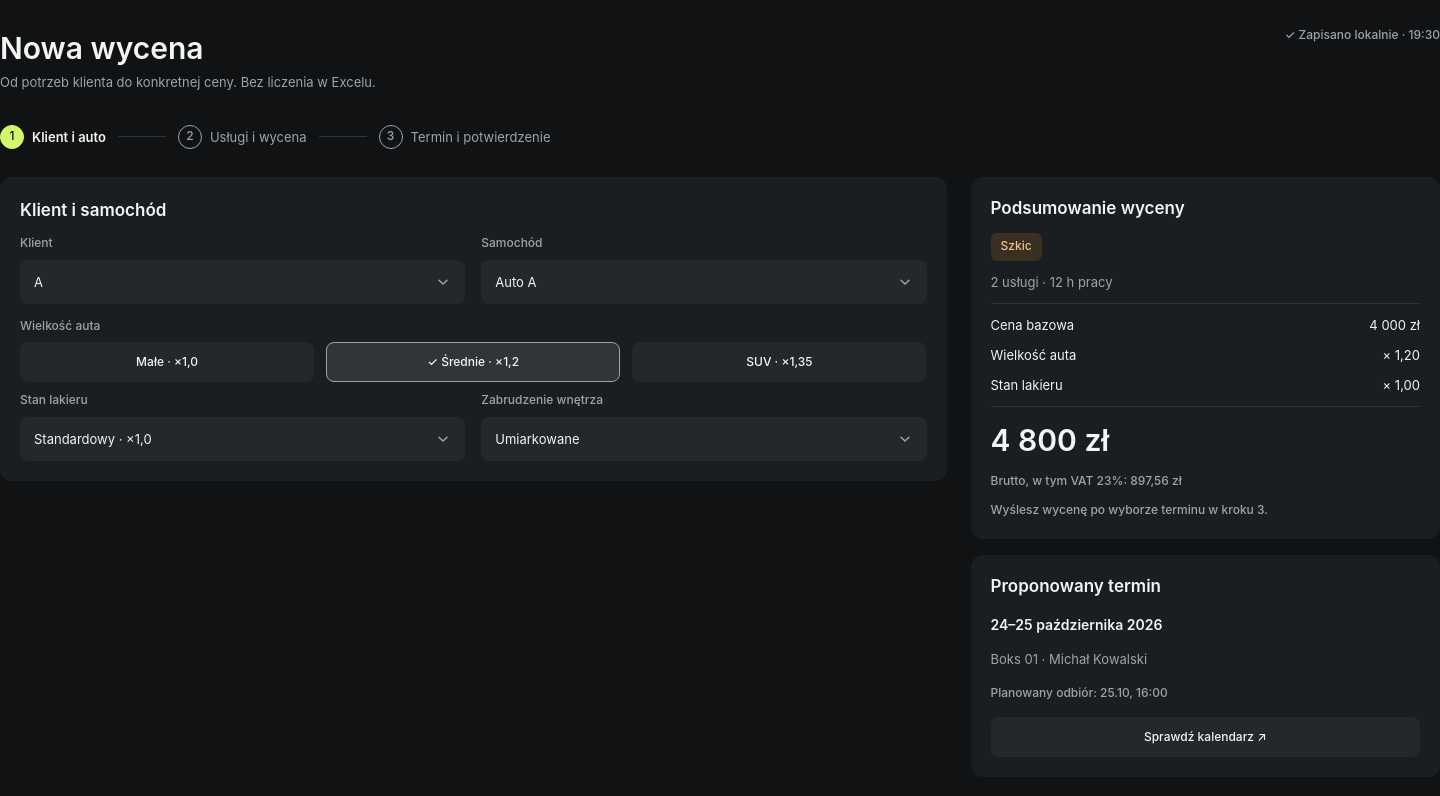
Test case: disables SMS for a client without a phone and clears consent when changing client
This screenshot has width=1440, height=796.
Click the button "3 Termin i potwierdzenie" at (465, 137), box [379,121,550,153]
(page scrolled)
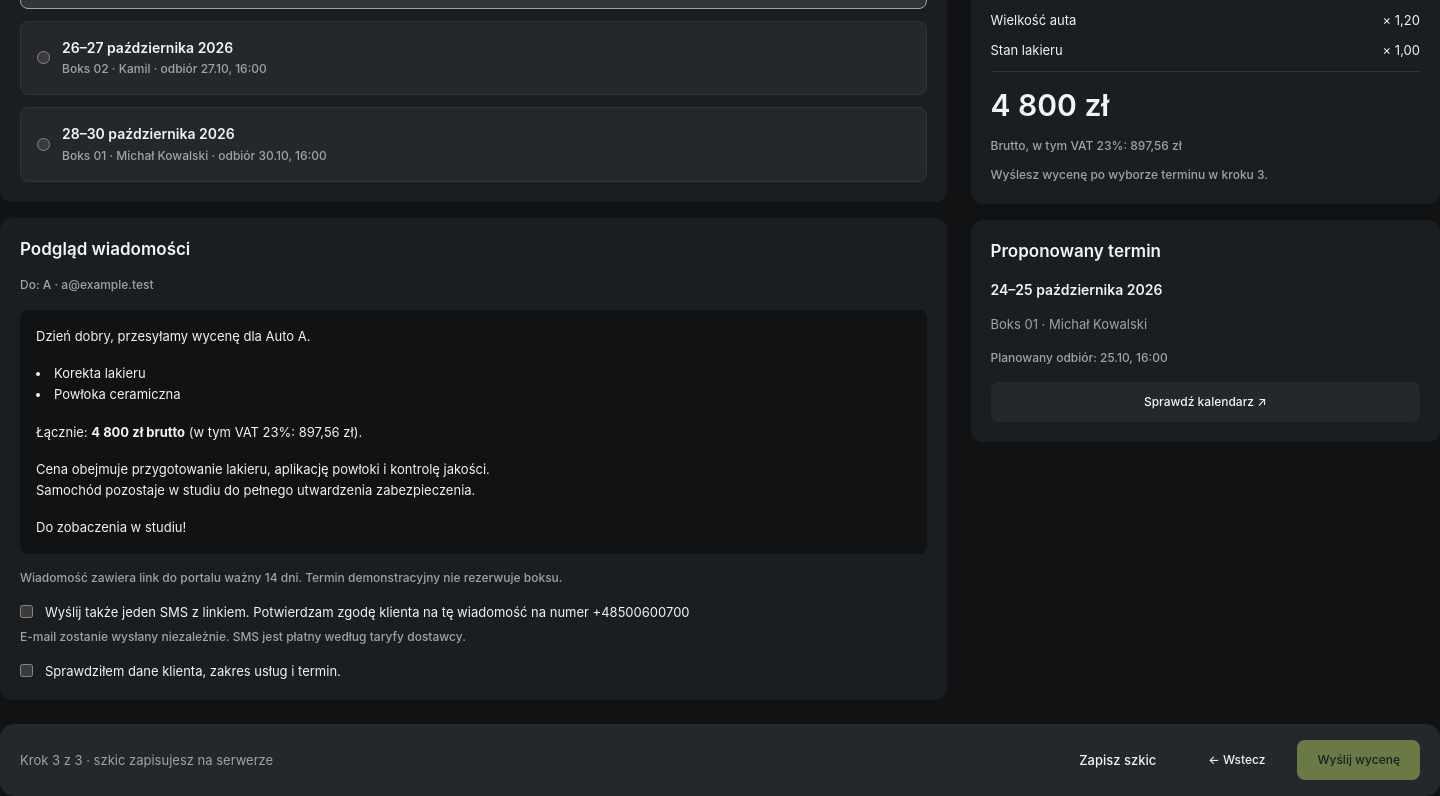
Click the checkbox labelled "Wyślij także jeden SMS" at (26, 611), box [20,605,33,618]
(page scrolled)
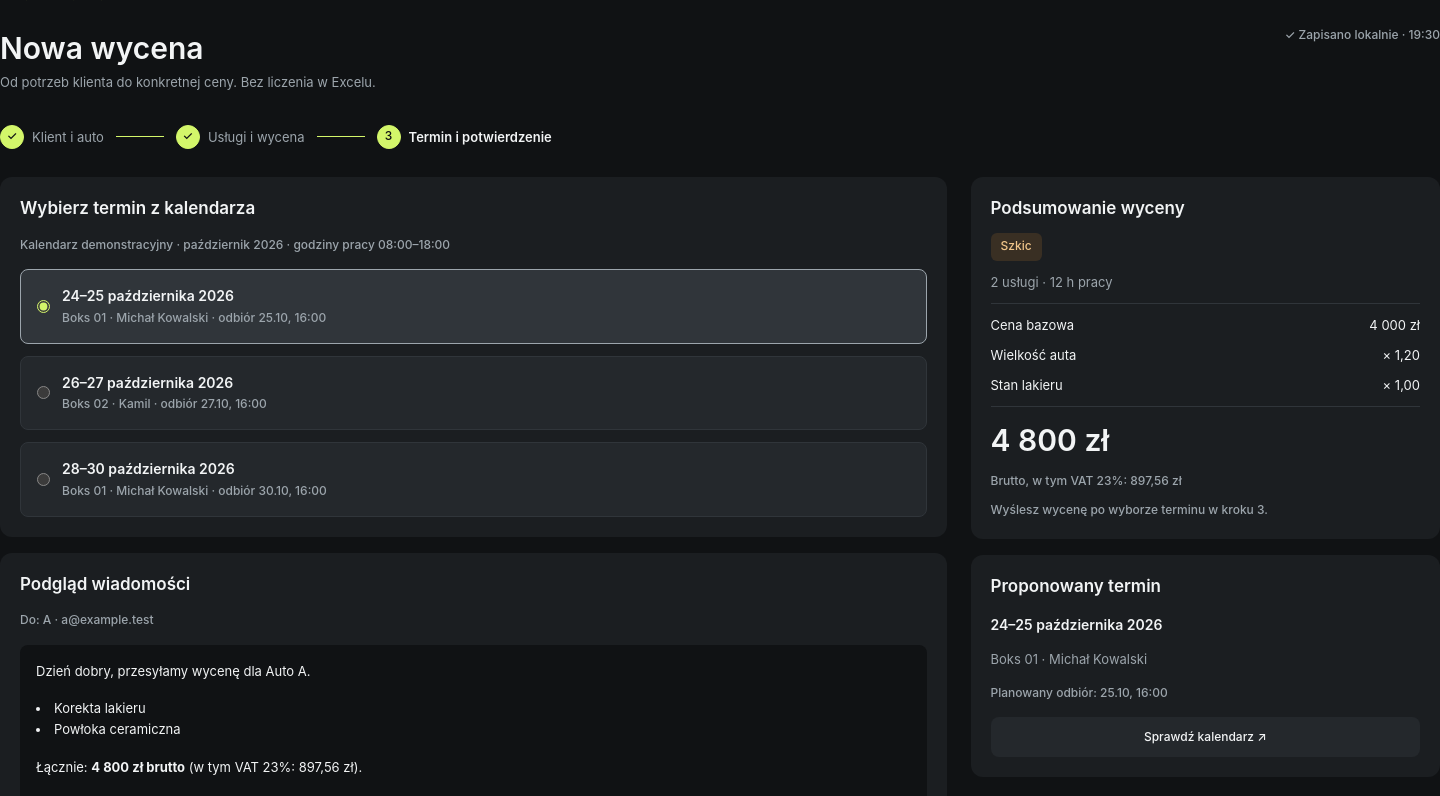
Click the button "✓ Klient i auto" at (52, 137), box [0,121,104,153]
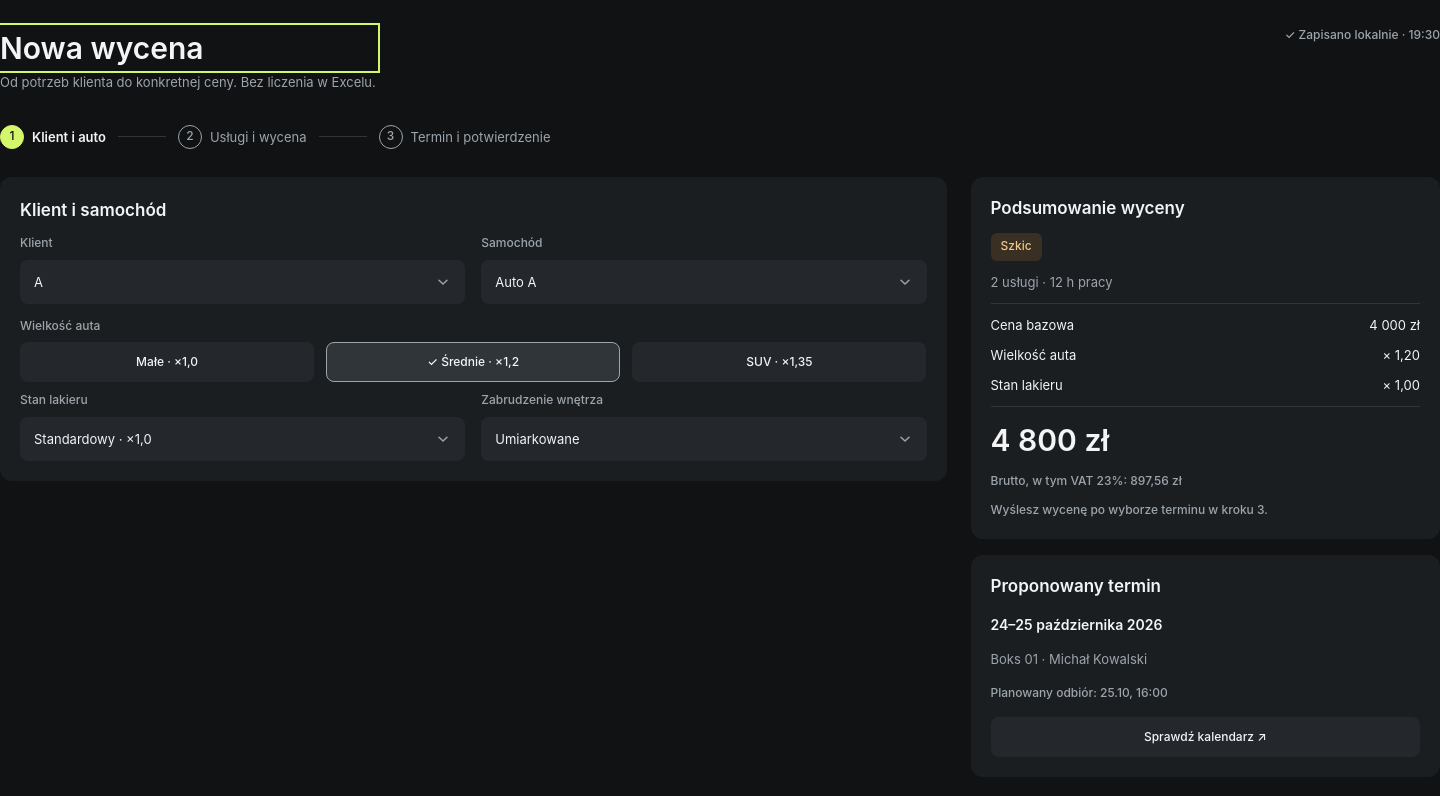
Click the dropdown named "Klient" at (38, 282), box [20,260,465,304]
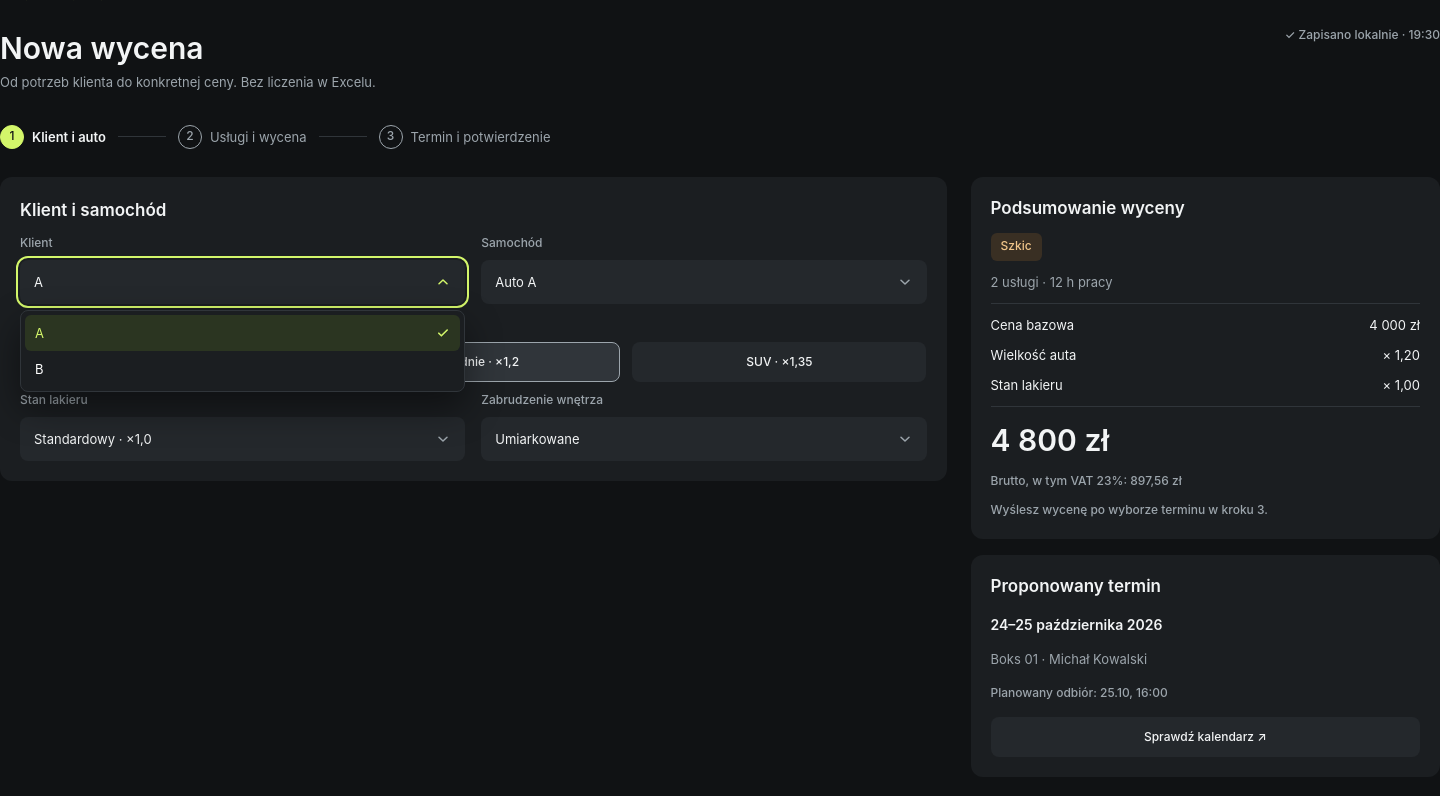
Click the option "B" at (39, 368), box [35,360,44,376]
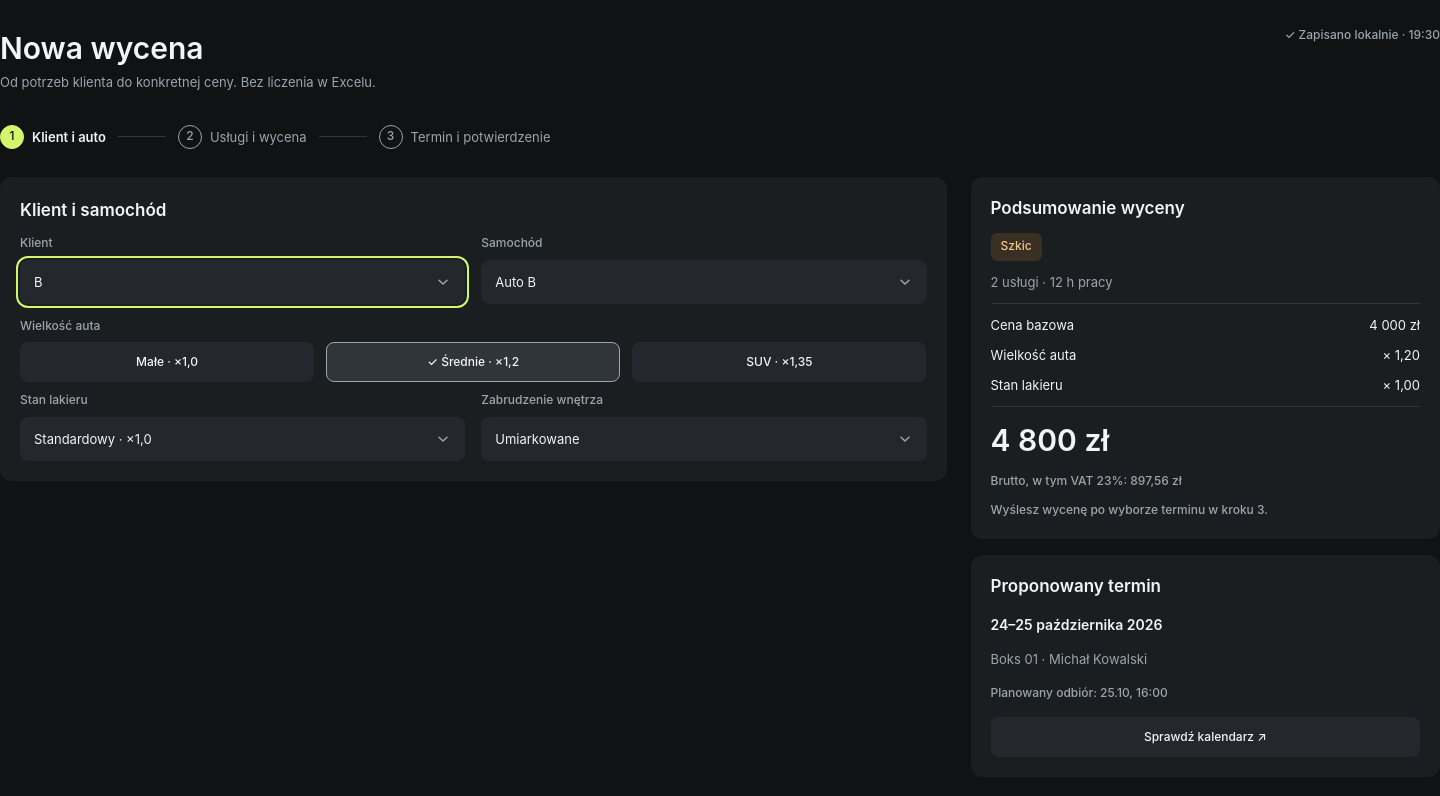
Click the button "3 Termin i potwierdzenie" at (465, 137), box [379,121,550,153]
(page scrolled)
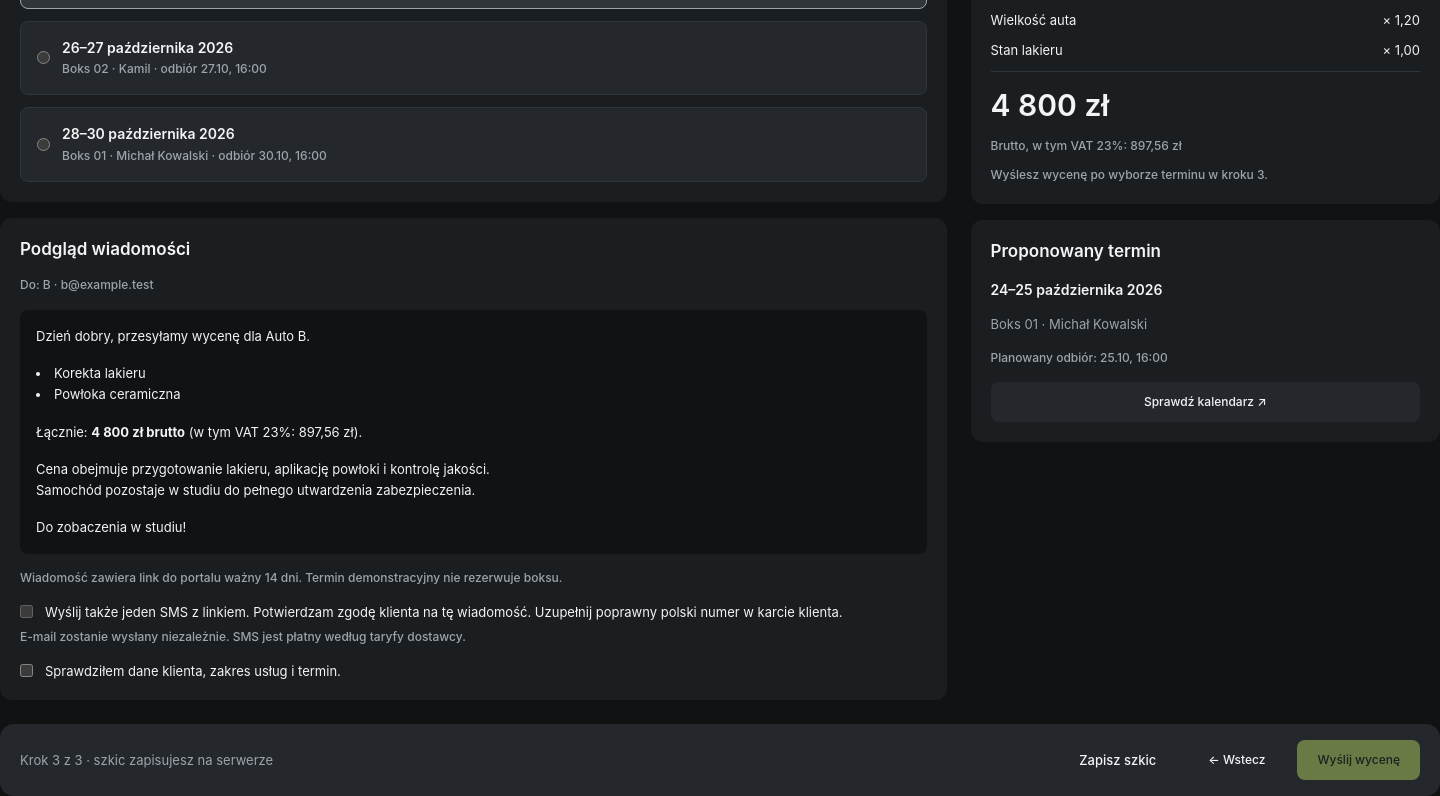
Now the checkbox labelled "Wyślij także jeden SMS" is disabled, box [20,605,33,618]
Now the checkbox labelled "Wyślij także jeden SMS" is not checked, box [20,605,33,618]
